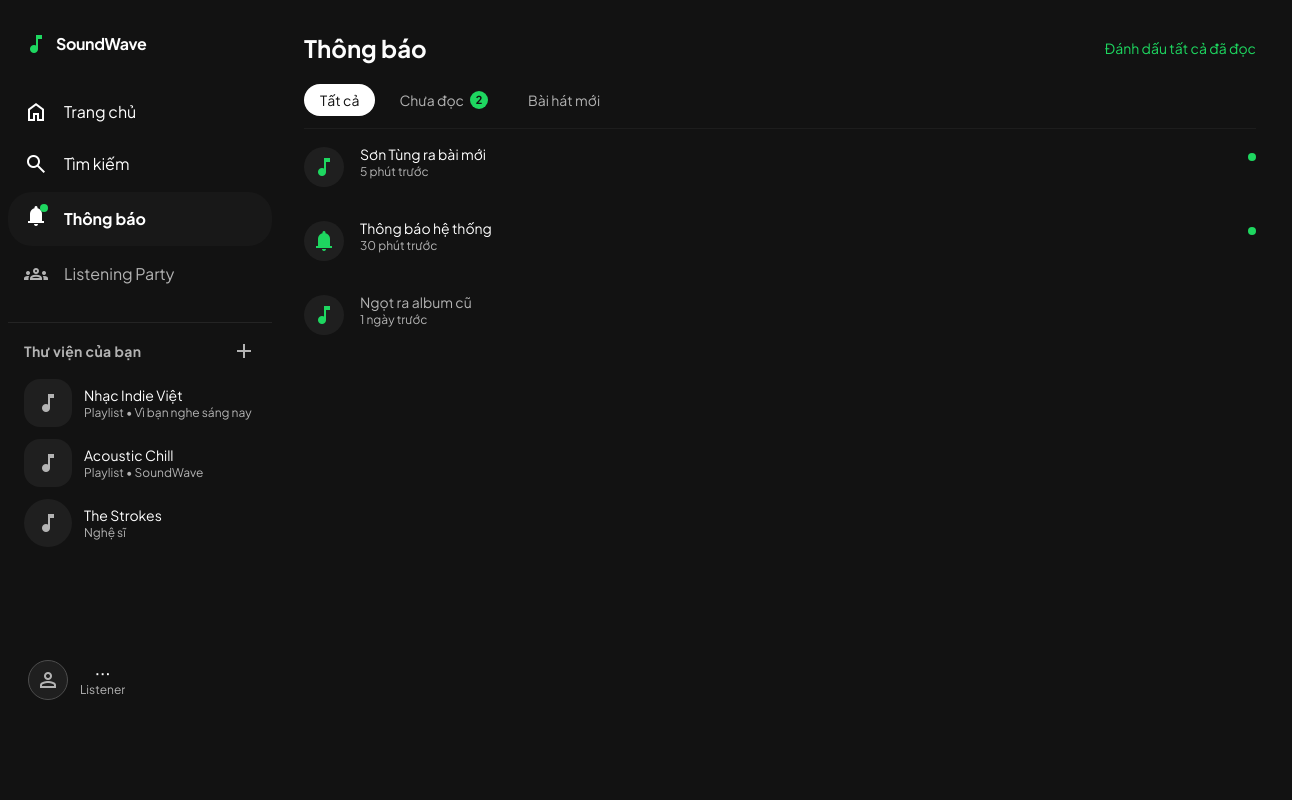
Test case: NotificationsPage — FilterPills › switching back to "Tất cả" shows all notifications
expect the element with test id "notifications-list" is shown: met, box [280, 129, 1280, 351]
Click the button with test id "filter-pill-unread" at (444, 100), box [383, 84, 504, 116]
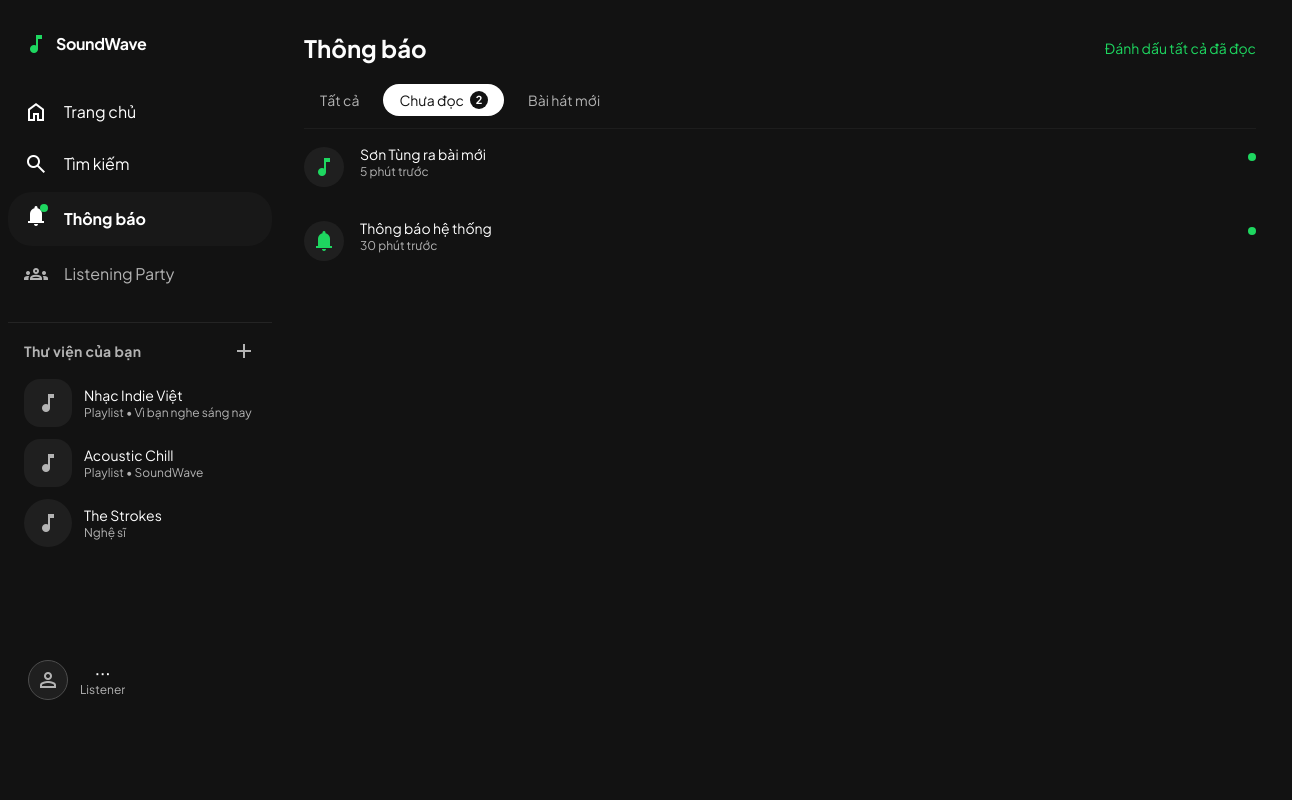
Click the button with test id "filter-pill-all" at (340, 100), box [304, 84, 375, 116]
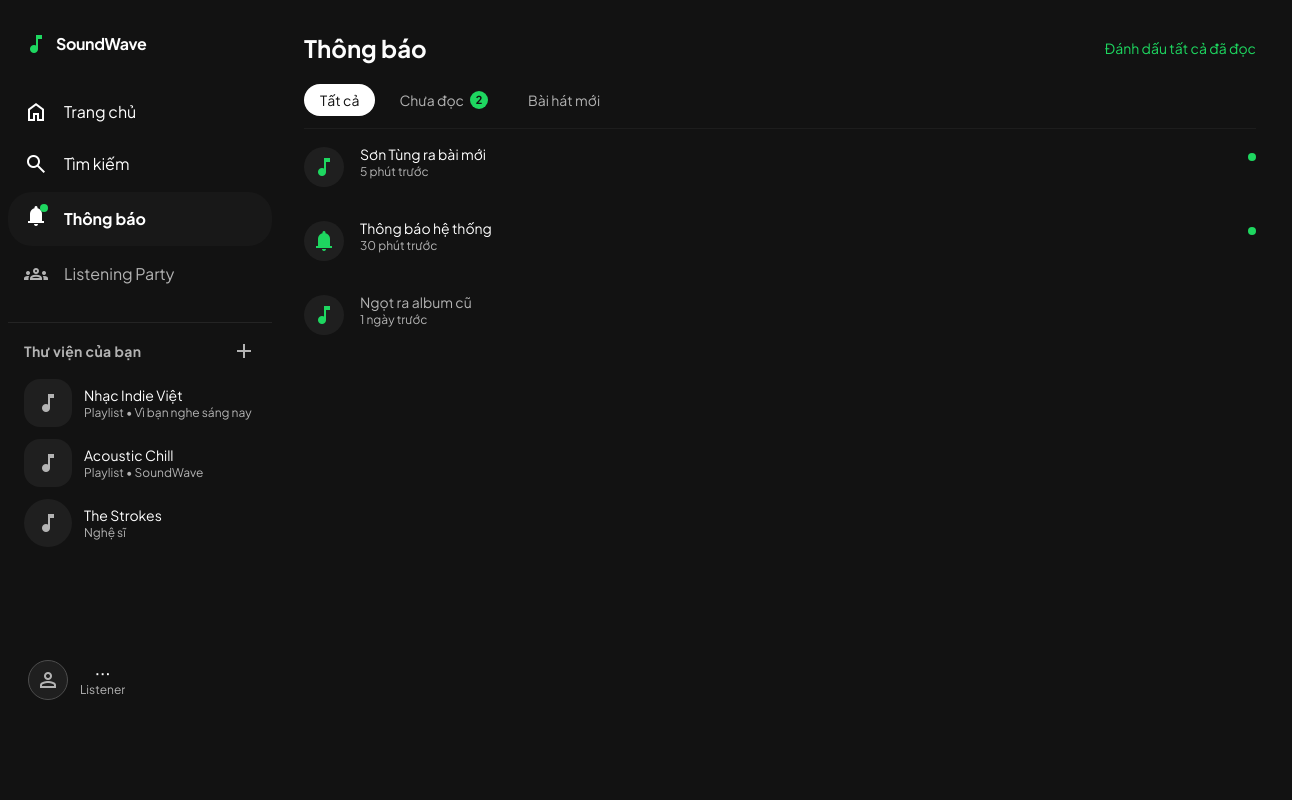
expect the number of buttons with test id "notification-row" is 3: met, box [280, 129, 1280, 203]; [280, 203, 1280, 277]; [280, 277, 1280, 351]
